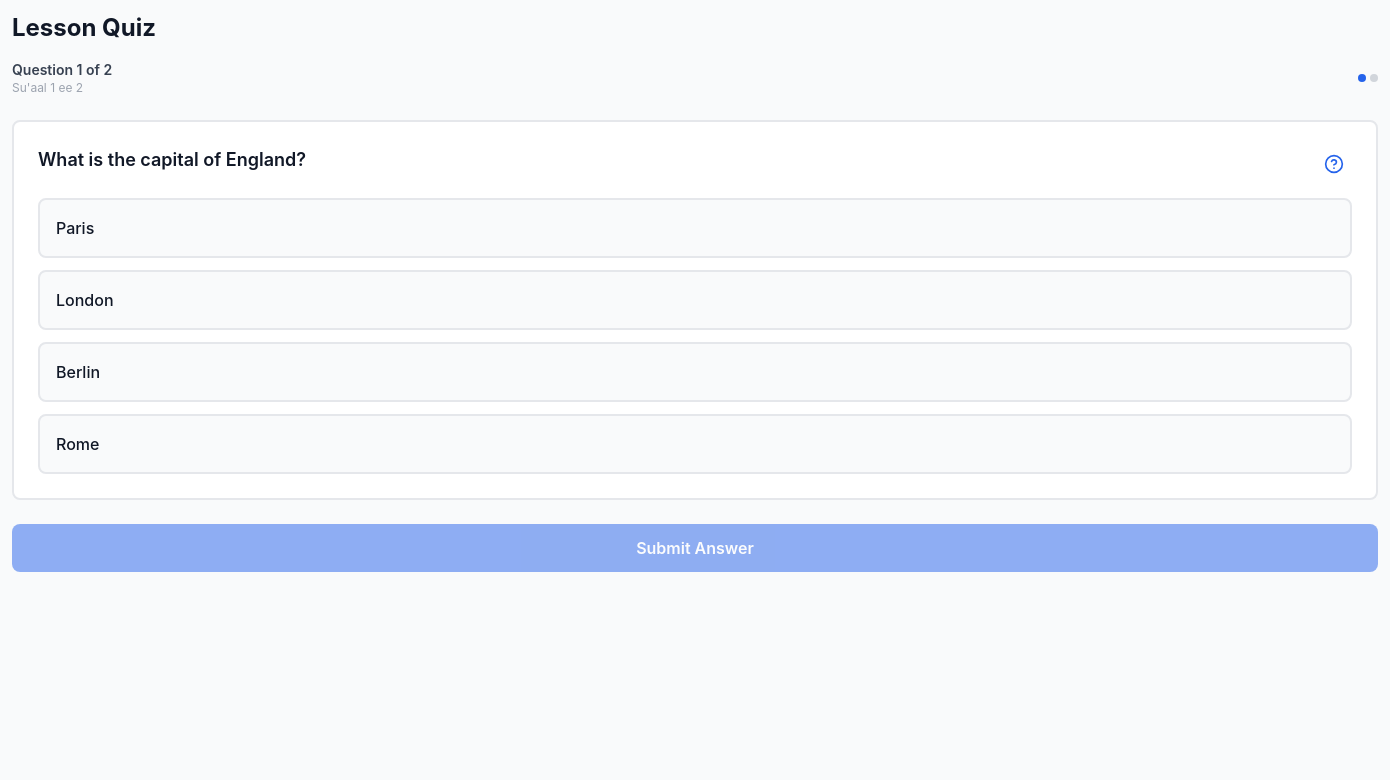
Test case: Quiz component › advances to the second question when Next is clicked
The width and height of the screenshot is (1390, 780).
Click the button "London" at (85,300), box [38,270,1352,330]
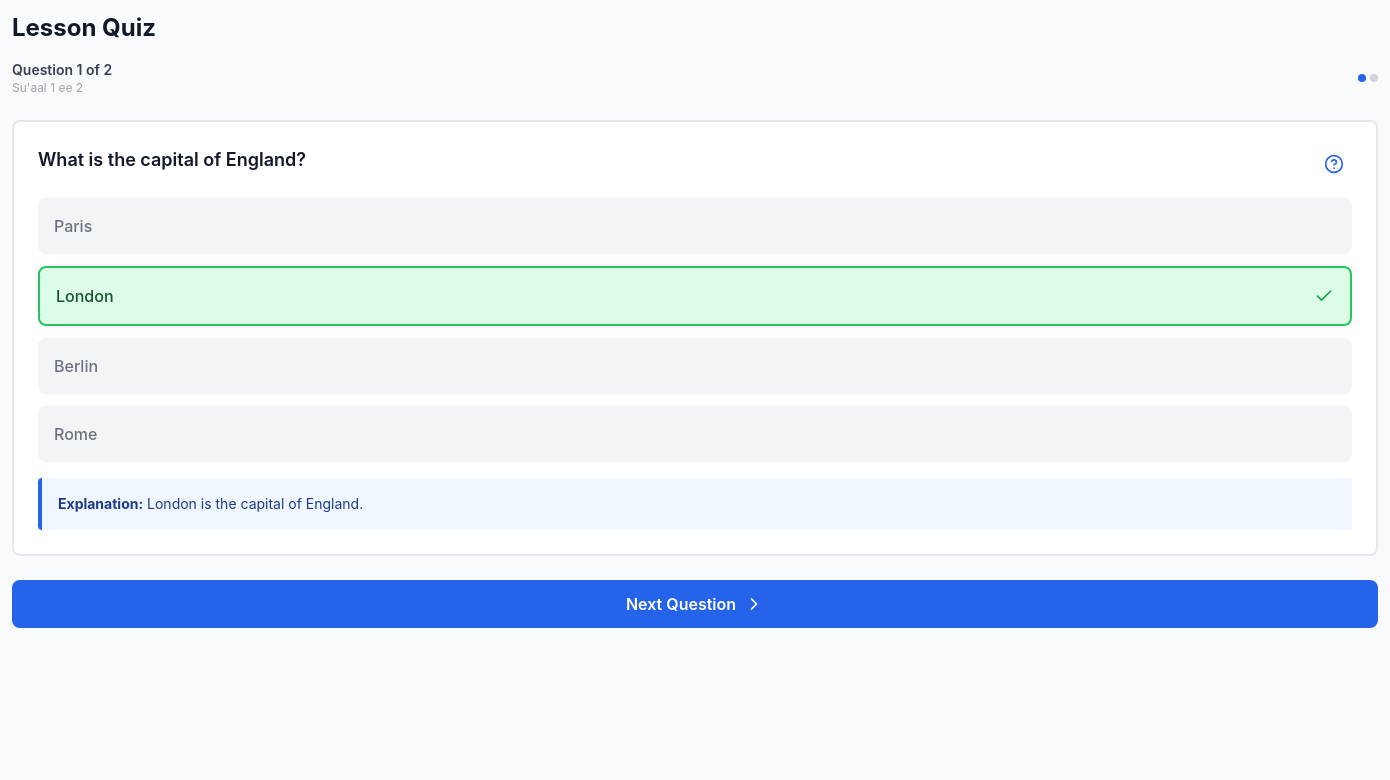
Click the button "Next Question" at (695,604), box [12,580,1378,628]
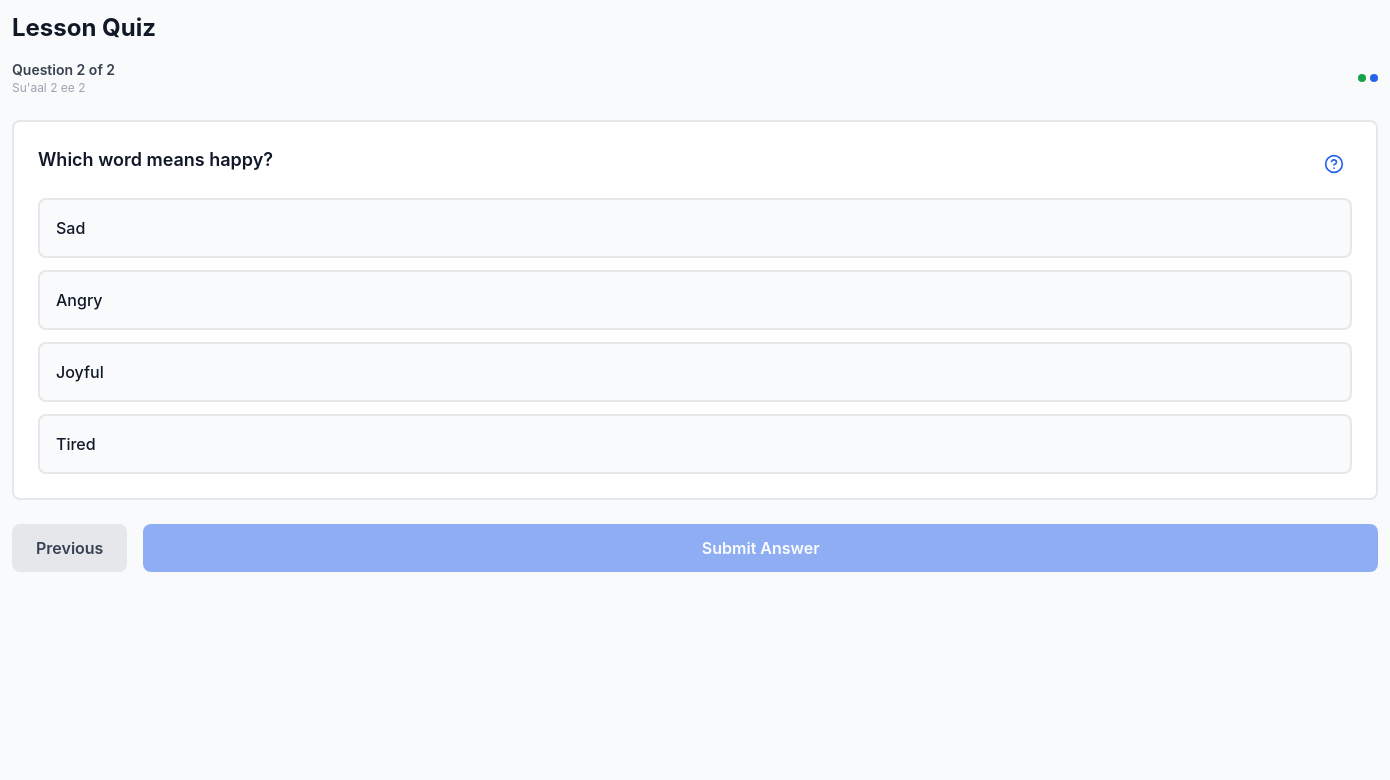
Expected: the heading "Which word means happy?" is shown, [38,146,273,174]
